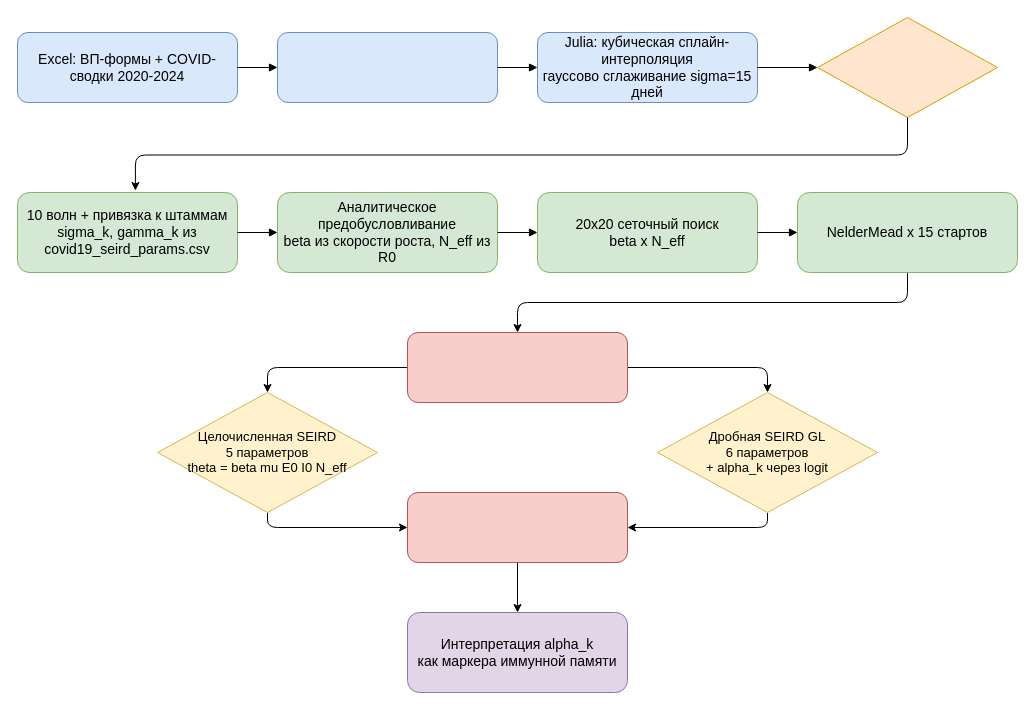
This 1035x710 diagram has some shape labels left out. The shapes that lost their labels are listed below. From the top down, each one's centre as x and y in pixels, then its label:
At point 387,67: "Python: разбор заголовков, нормализация".
At point 907,67: "Идентификация волн по знаку производной".
At point 517,367: "L-BFGS полировка".
At point 517,527: "LRT / AIC / BIC Bonferroni x 10 волн".
